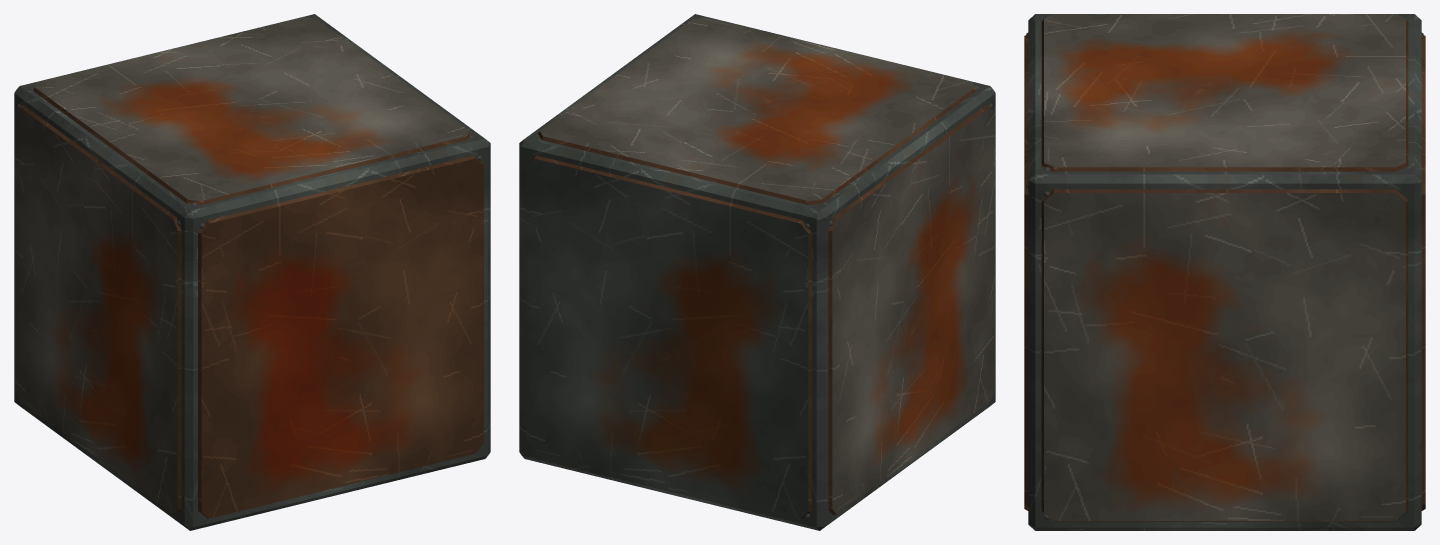
The picture shows the model from 3 angles, left to right: view 1: azimuth 30°, elevation 25°; view 2: azimuth 150°, elevation 25°; view 3: azimuth 270°, elevation 25°; orthographic projection. The views are drawn at different scales.
Parts seen in each view (by area): view 1: R4B_Cube; view 2: R4B_Cube; view 3: R4B_Cube.
Boxes of the visible parts, <box> form: R4B_Cube: <box>14,14,490,530</box>; R4B_Cube: <box>519,14,995,530</box>; R4B_Cube: <box>1024,14,1425,530</box>.
Bounding box in the file's own units: 0.52 × 0.52 × 0.52.
Materials: 4 (4 with a texture image).
